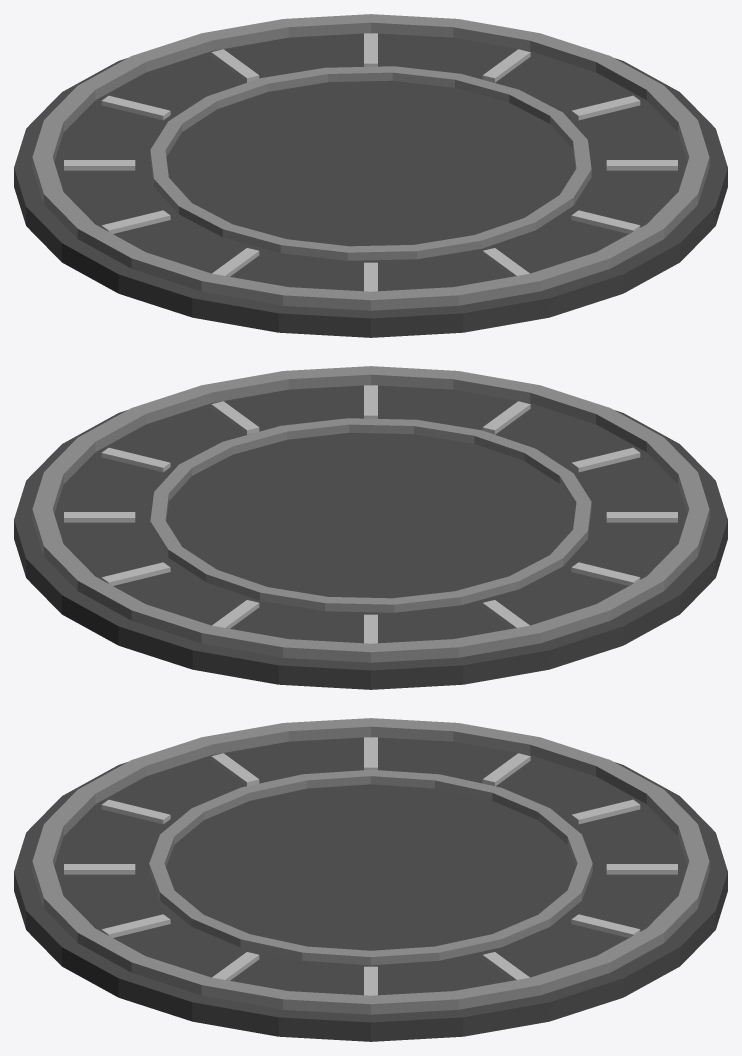
3 renders of one model, top to bottom at view 1: azimuth 30°, elevation 25°; view 2: azimuth 150°, elevation 25°; view 3: azimuth 270°, elevation 25°, orthographic.
Visible parts, largest first — view 1: Circle; view 2: Circle; view 3: Circle.
Part boxes in pixels (left/top/right/bottom): Circle: left=14, top=14, right=727, bottom=337; Circle: left=14, top=366, right=727, bottom=689; Circle: left=14, top=718, right=727, bottom=1041.
Bounding box in the file's own units: 1 × 0.0461 × 1.
1 material, 1 textured.
